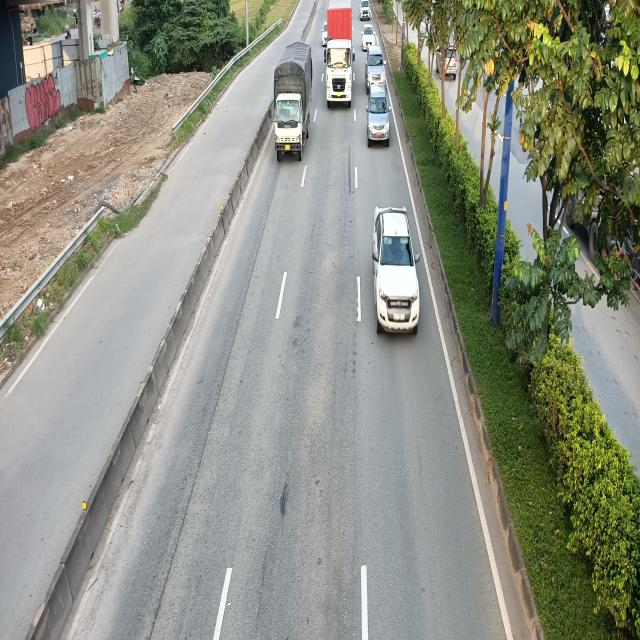car: (374, 208, 422, 337), (366, 84, 390, 147), (359, 0, 370, 20)
container: (324, 0, 355, 104)
truck: (270, 41, 312, 159)
